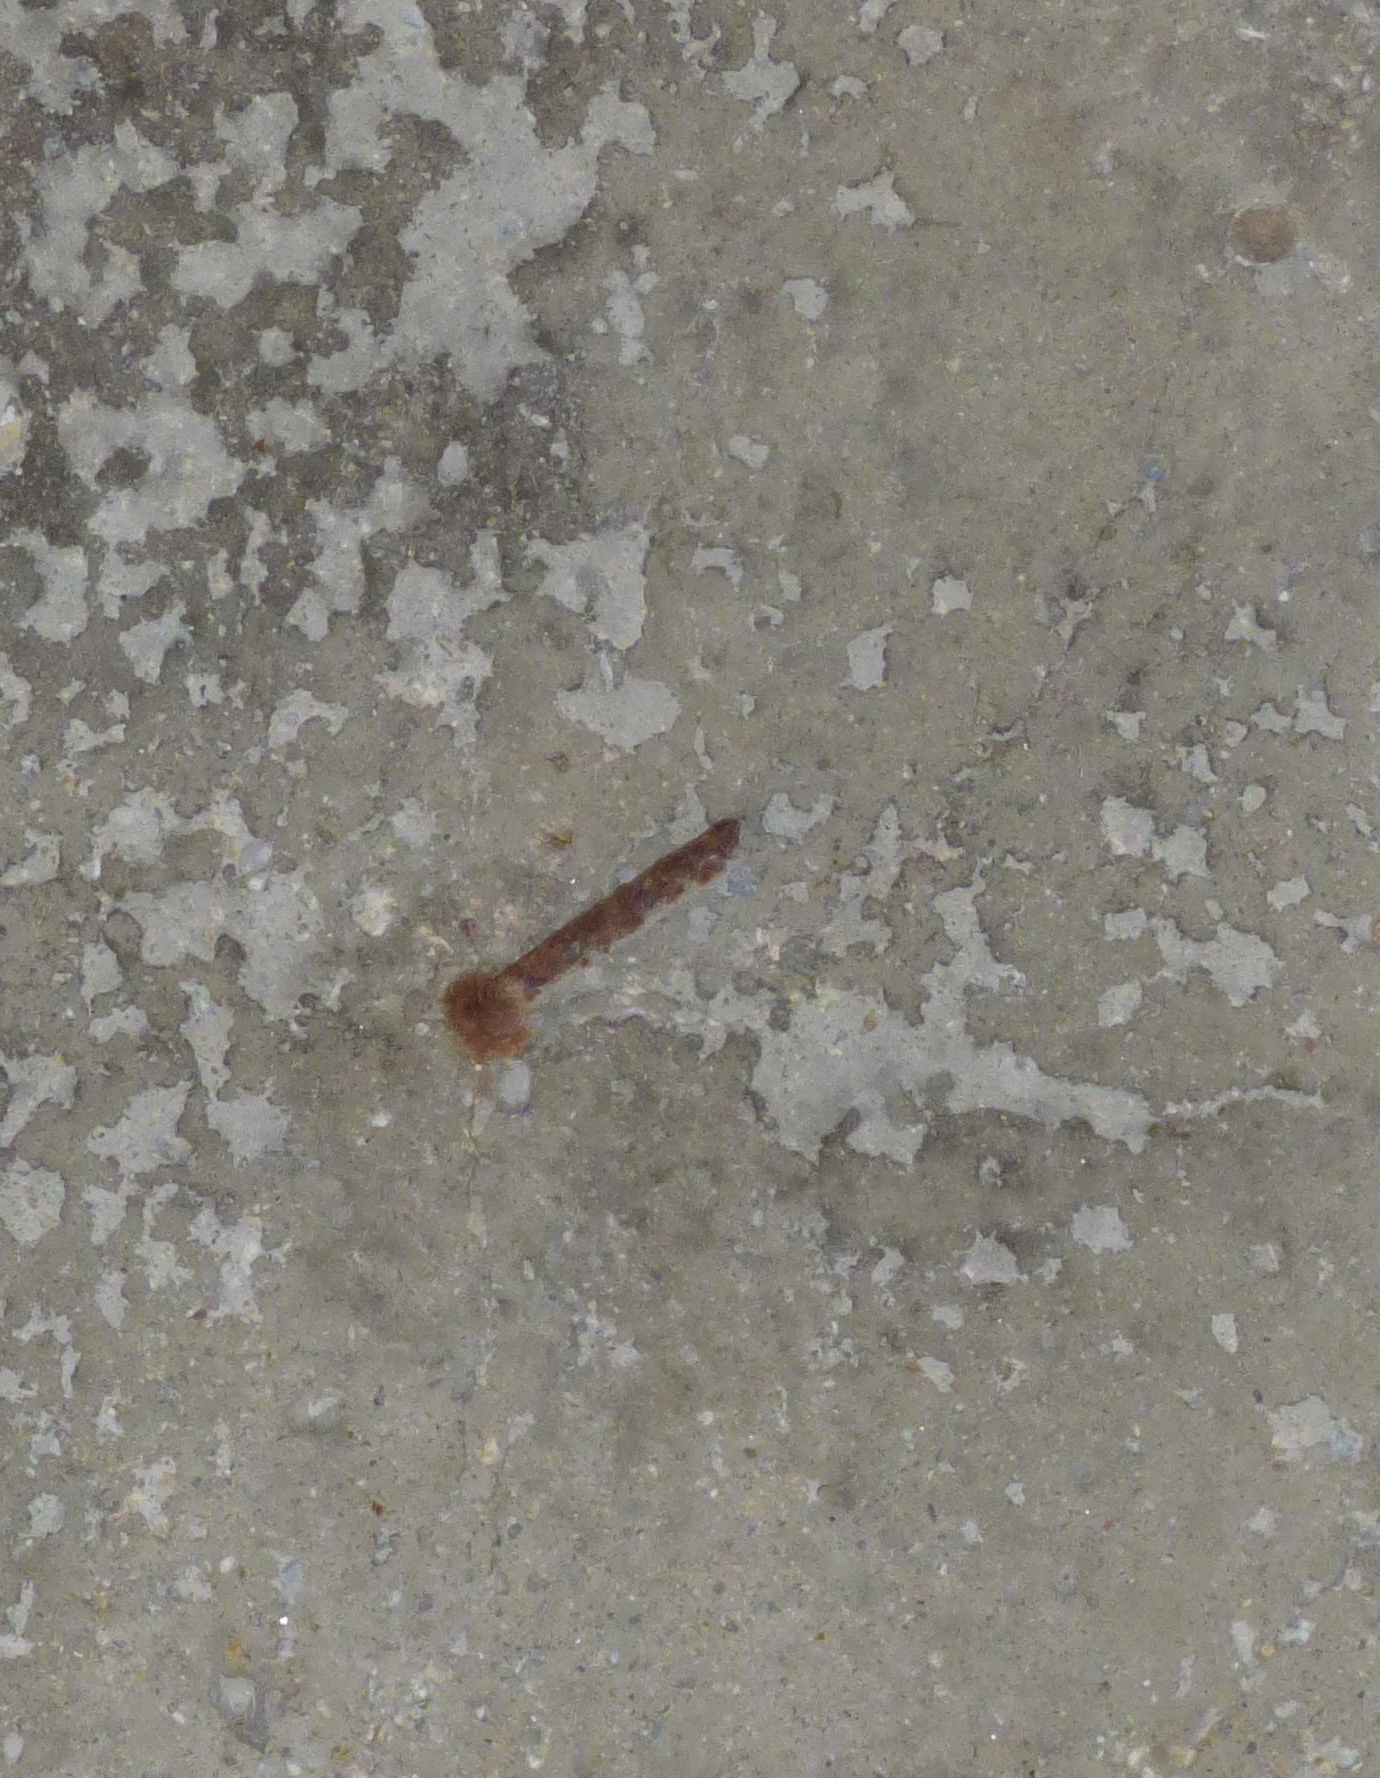Corrosion: (442, 967, 531, 1068)
Spalling: (478, 815, 743, 1017)
